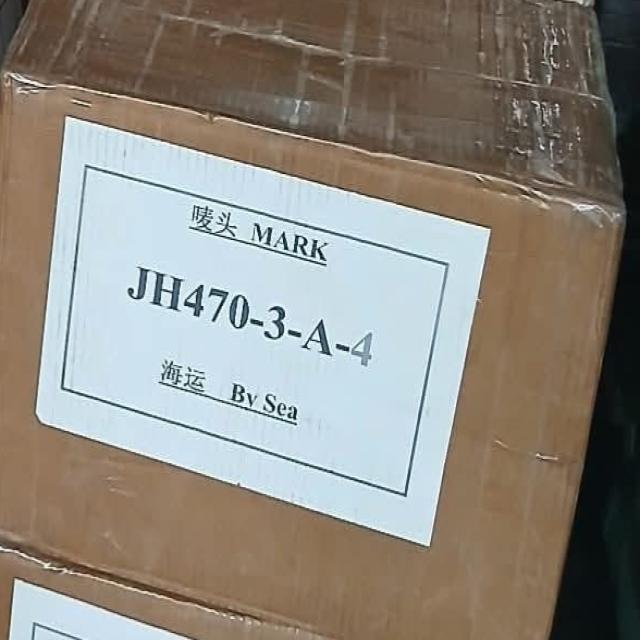carton_box: (2, 0, 635, 640)
export_mark_label: (44, 112, 453, 540)
